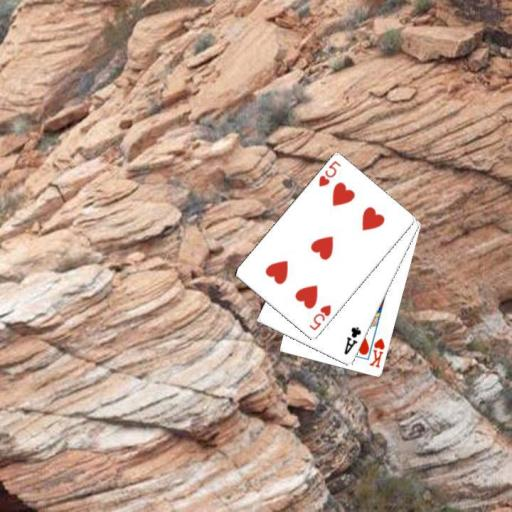5H: (306, 302, 333, 332), (315, 158, 342, 188)
AC: (341, 325, 363, 357)
KH: (366, 335, 386, 369)
